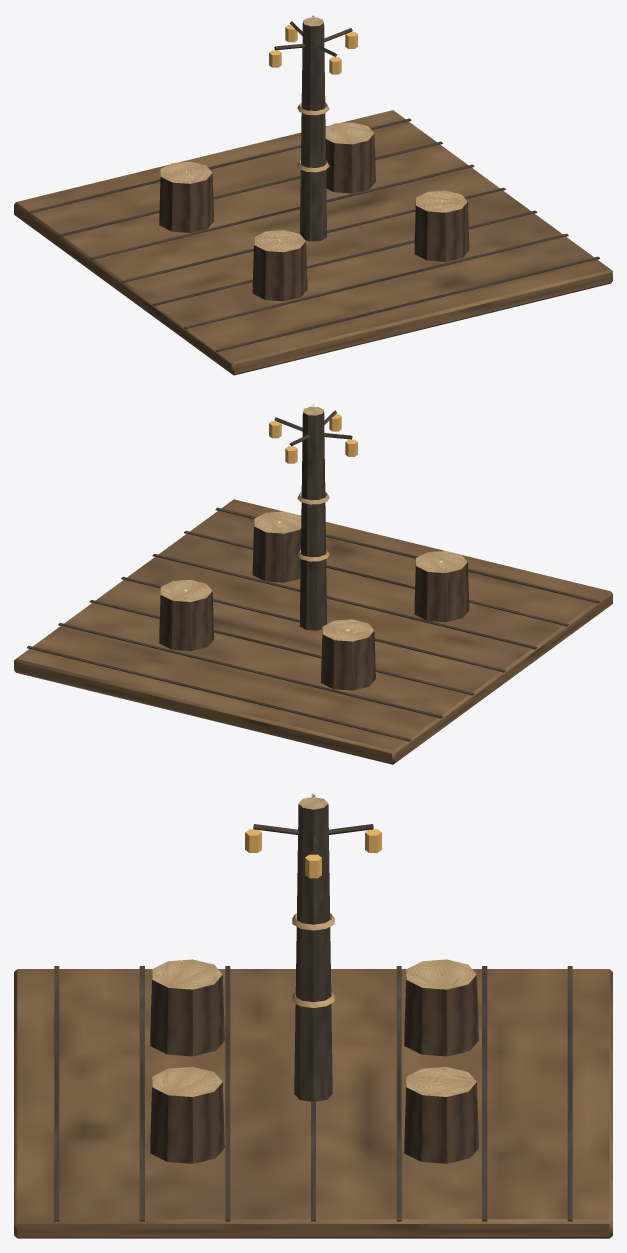
File: SM_Lobby_PartyArea.fbx
The picture shows the model from 3 angles, top to bottom: view 1: azimuth 30°, elevation 25°; view 2: azimuth 150°, elevation 25°; view 3: azimuth 270°, elevation 25°; orthographic projection. The views are drawn at different scales.
Visible parts, largest first — view 1: SM_Lobby_PartyArea; view 2: SM_Lobby_PartyArea; view 3: SM_Lobby_PartyArea.
Boxes of the visible parts, box(x1,y1,x2,y2) form: SM_Lobby_PartyArea: box(14, 17, 612, 375); SM_Lobby_PartyArea: box(14, 406, 612, 764); SM_Lobby_PartyArea: box(14, 797, 612, 1238).
Size of the model in its own units: 14.05 by 8.24 by 14.
1 material, 1 textured.
